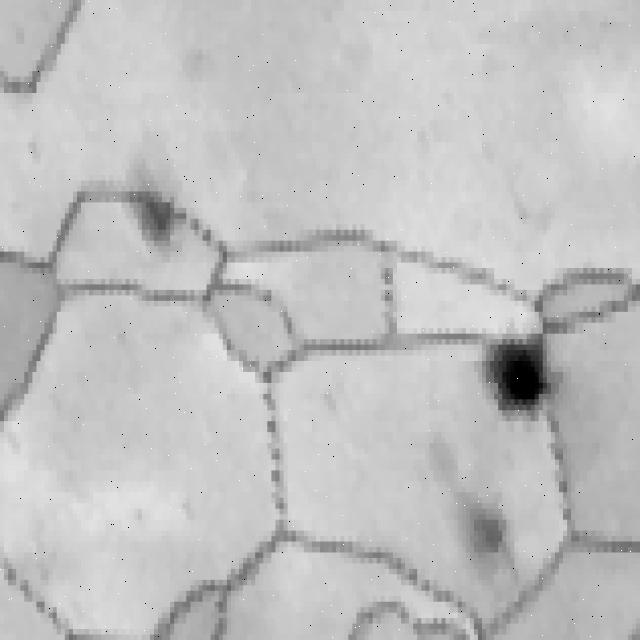good_void: (415, 436, 521, 590), (472, 323, 563, 435), (128, 194, 187, 258)
